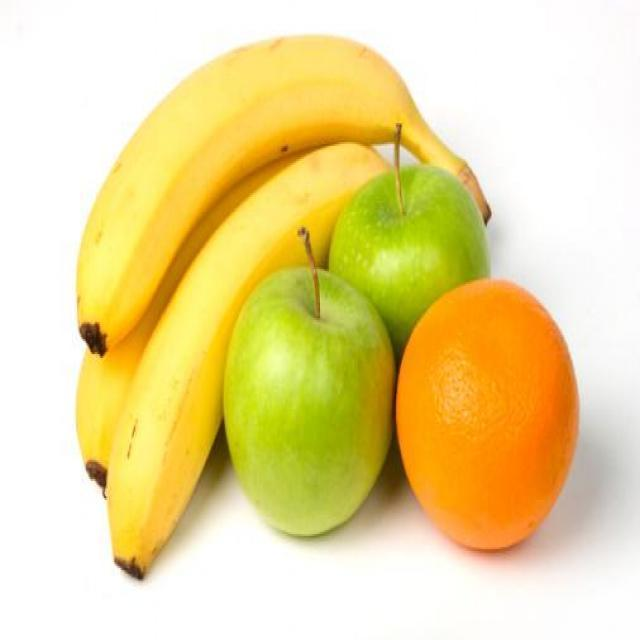Apple: (219, 250, 403, 542), (324, 144, 503, 329)
Banana: (62, 28, 491, 580)
Orange: (391, 277, 582, 560)
